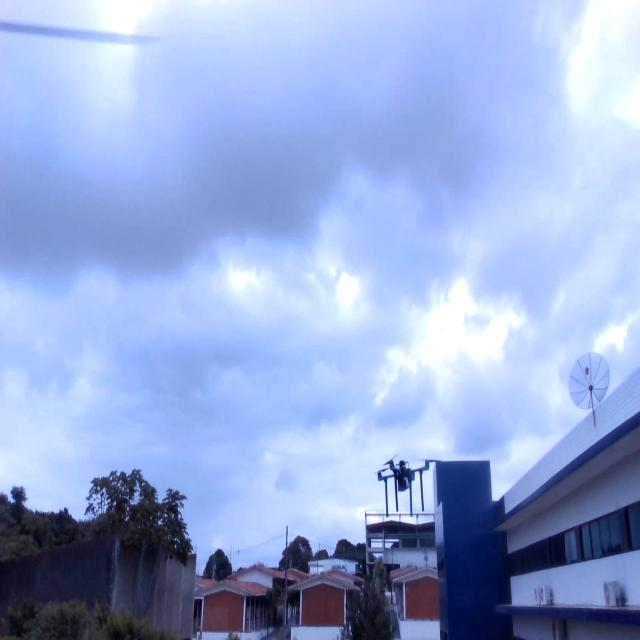-uav-: (368, 436, 442, 524)
